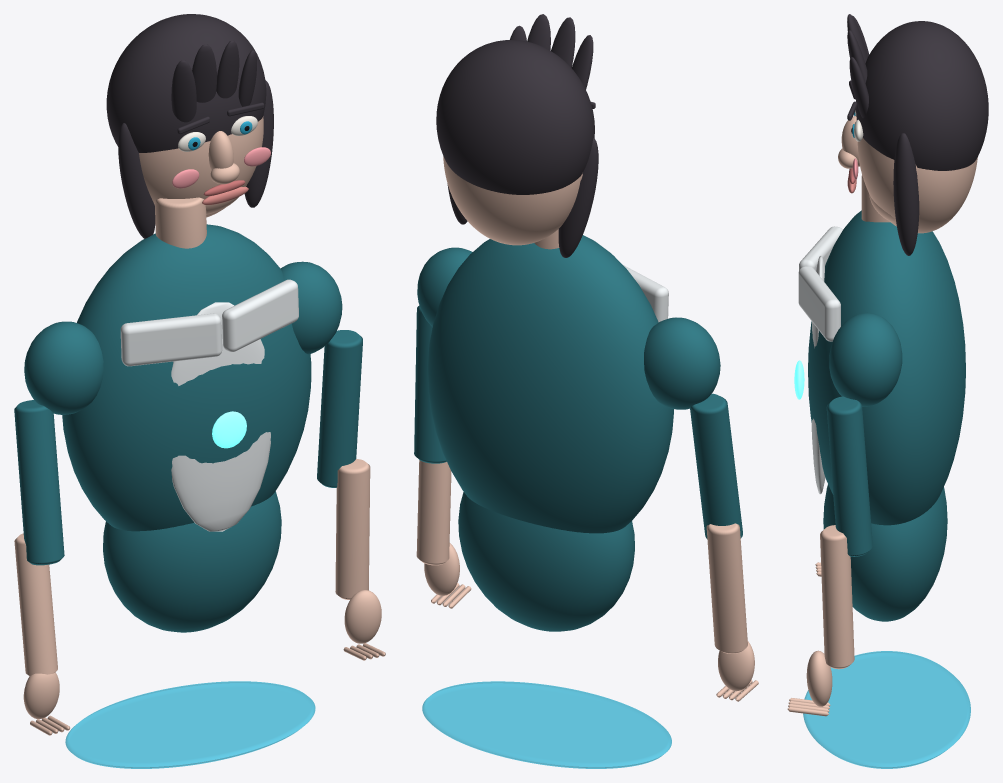
File: openclaw-avatar.glb
3 views of the same model, side by side, from view 1: azimuth 30°, elevation 25°; view 2: azimuth 150°, elevation 25°; view 3: azimuth 270°, elevation 25° (orthographic).
Visible parts, largest first — view 1: tailored upper body, soft hologram base, tailored waist, smooth shoulder-length hair cap, pearl blouse center, Aiyu left upper arm, Aiyu left shoulder, Aiyu right upper arm, Aiyu right forearm, left angular collar, Aiyu realistic face base, Aiyu left forearm (+13 smaller); view 2: tailored upper body, smooth shoulder-length hair cap, soft hologram base, tailored waist, Aiyu left shoulder, Aiyu realistic face base, Aiyu left upper arm, Aiyu left forearm, Aiyu right forearm, Aiyu right upper arm, Aiyu right shoulder, left side hair lock (+6 smaller); view 3: tailored upper body, smooth shoulder-length hair cap, soft hologram base, tailored waist, Aiyu right upper arm, Aiyu right shoulder, Aiyu realistic face base, Aiyu right forearm, right side hair lock, right angular collar, Aiyu right hand, pearl blouse center (+5 smaller).
Boxes of the visible parts, x1,y1,x2,y2 form: tailored upper body: (62, 224, 311, 531); soft hologram base: (65, 681, 315, 768); tailored waist: (103, 491, 281, 632); smooth shoulder-length hair cap: (106, 14, 266, 152); pearl blouse center: (171, 302, 270, 531); Aiyu left upper arm: (14, 400, 64, 565); Aiyu left shoulder: (24, 321, 103, 414); Aiyu right upper arm: (317, 330, 362, 487); Aiyu right forearm: (335, 459, 370, 599); left angular collar: (120, 313, 222, 366); Aiyu realistic face base: (139, 116, 263, 217); Aiyu left forearm: (14, 533, 57, 675); tailored upper body: (427, 235, 673, 533); smooth shoulder-length hair cap: (436, 40, 594, 194); soft hologram base: (422, 681, 671, 768); tailored waist: (458, 492, 634, 631); Aiyu left shoulder: (644, 317, 720, 409); Aiyu realistic face base: (443, 156, 580, 245); Aiyu left upper arm: (690, 393, 742, 538); Aiyu left forearm: (706, 523, 747, 653); Aiyu right forearm: (416, 460, 451, 565); Aiyu right upper arm: (414, 305, 446, 463); Aiyu right shoulder: (417, 247, 472, 327); left side hair lock: (558, 138, 598, 257); tailored upper body: (808, 210, 965, 525); smooth shoulder-length hair cap: (856, 21, 988, 170); soft hologram base: (803, 651, 970, 768); tailored waist: (823, 484, 947, 621); Aiyu right upper arm: (826, 396, 872, 556); Aiyu right shoulder: (829, 312, 902, 406); Aiyu realistic face base: (857, 138, 977, 233); Aiyu right forearm: (820, 525, 854, 669); right side hair lock: (893, 133, 919, 255); right angular collar: (798, 266, 840, 341); Aiyu right hand: (806, 650, 832, 706); pearl blouse center: (811, 256, 825, 494).
Bounding box in the file's own units: 1.4 × 2.72 × 0.713.
